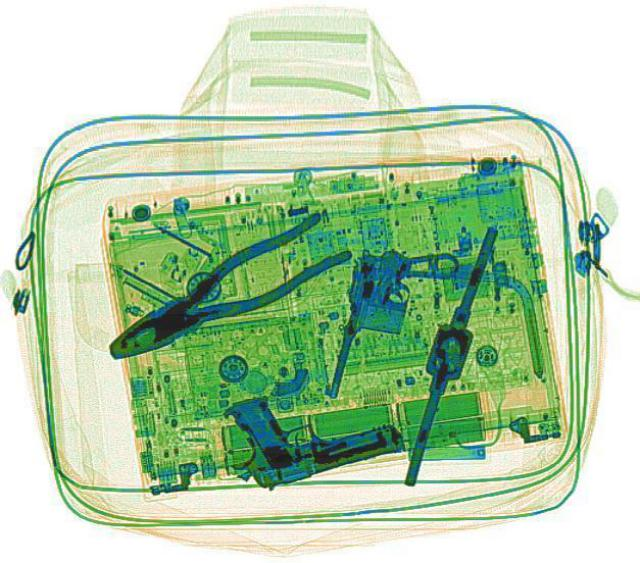Gun: (211, 360, 405, 493), (323, 239, 459, 408)
Pliers: (88, 204, 356, 379)
